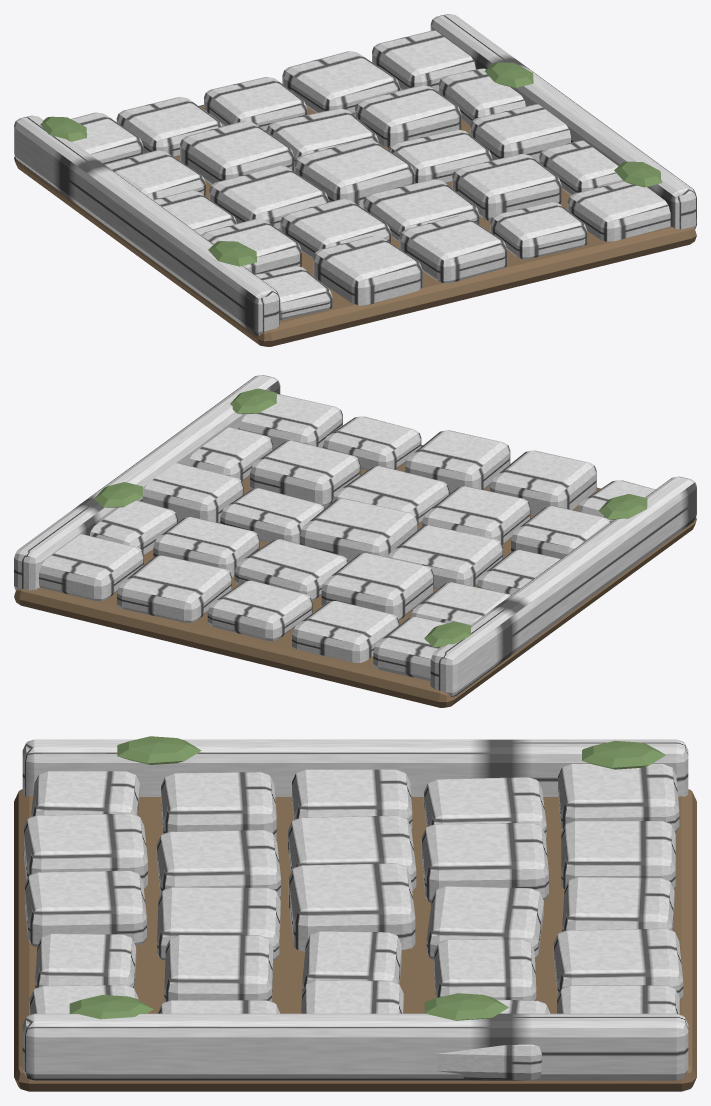
The model's file is stone_road.glb.
3 views of the same model, one above another, from view 1: azimuth 30°, elevation 25°; view 2: azimuth 150°, elevation 25°; view 3: azimuth 270°, elevation 25° (orthographic). The views are drawn at different scales.
Parts seen in each view (by area): view 1: StoneRoadTile_Geometry; view 2: StoneRoadTile_Geometry; view 3: StoneRoadTile_Geometry.
Part boxes in pixels (left/top/right/bottom): StoneRoadTile_Geometry: left=14, top=14, right=696, bottom=346; StoneRoadTile_Geometry: left=14, top=375, right=696, bottom=707; StoneRoadTile_Geometry: left=14, top=736, right=696, bottom=1091.
Size of the model in its own units: 2.04 by 0.265 by 2.
Materials: 5 (3 with a texture image).
